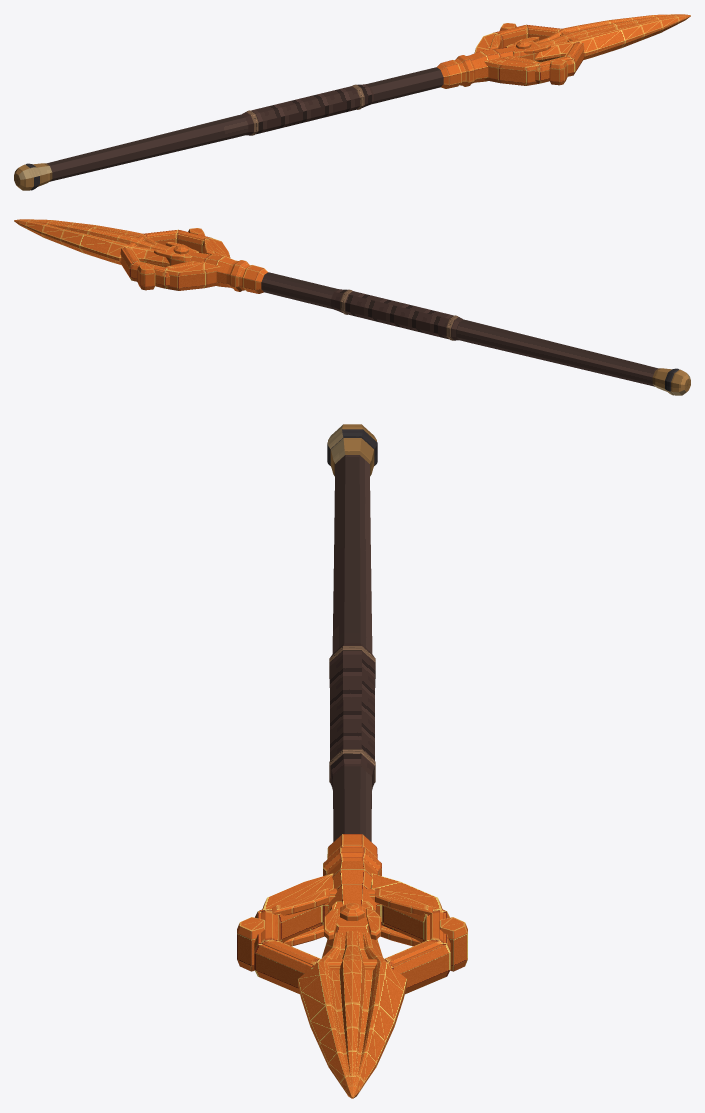
File: bench_jindan_jinwu_spear_5_hot.obj
The picture shows the model from 3 angles, top to bottom: view 1: azimuth 30°, elevation 25°; view 2: azimuth 150°, elevation 25°; view 3: azimuth 270°, elevation 25°; orthographic projection. The views are drawn at different scales.
Parts seen in each view (by area): view 1: geometry; view 2: geometry; view 3: geometry.
Boxes of the visible parts, bbox=[...] form: geometry: bbox=[14, 14, 690, 190]; geometry: bbox=[14, 219, 690, 395]; geometry: bbox=[237, 424, 467, 1098].
Size of the model in its own units: 0.75 by 0.0317 by 0.1113.
